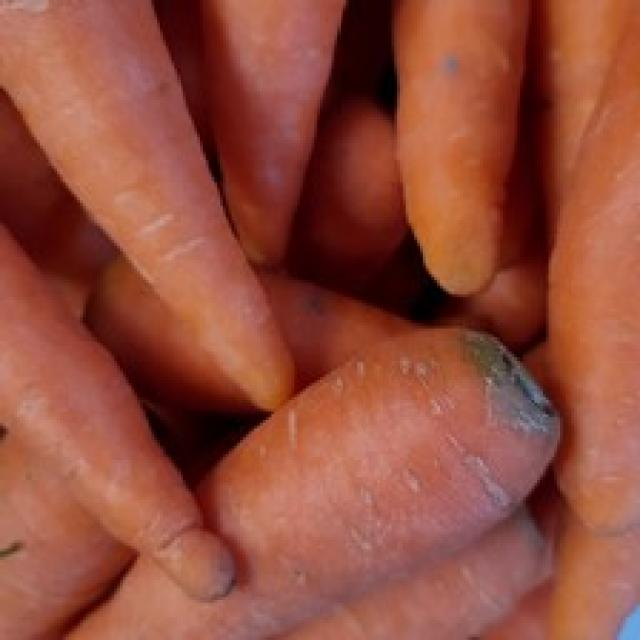Fresh_Carrot: (0, 3, 317, 388), (556, 21, 640, 548), (386, 8, 515, 296)
